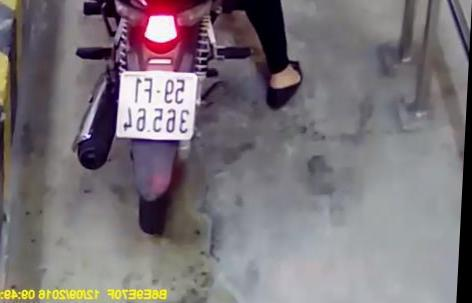License_Plate: (109, 65, 209, 145)
